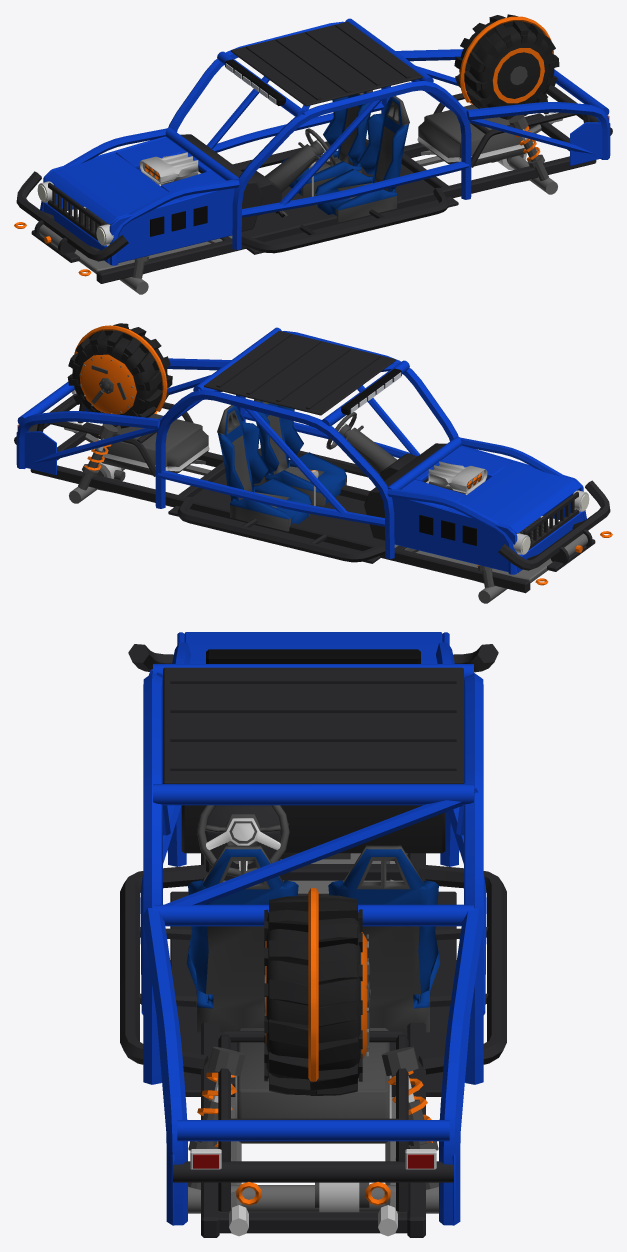
Rendered from car3.obj.
The picture shows the model from 3 angles, top to bottom: view 1: azimuth 30°, elevation 25°; view 2: azimuth 150°, elevation 25°; view 3: azimuth 270°, elevation 25°; orthographic projection. The views are drawn at different scales.
Parts seen in each view (by area): view 1: car3; view 2: car3; view 3: car3.
Boxes of the visible parts, x1,y1,x2,y2 form: car3: [14, 14, 612, 294]; car3: [14, 323, 612, 603]; car3: [120, 632, 506, 1237].
Size of the model in its own units: 8.6 by 2.4 by 2.7.
